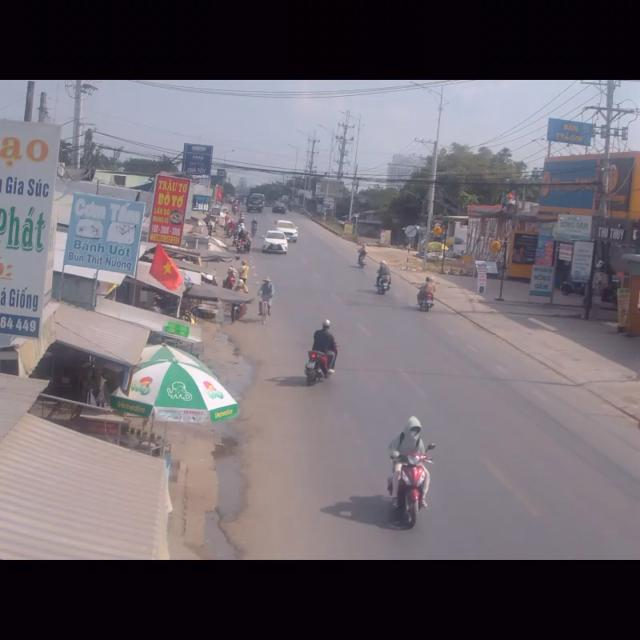motorbike: (384, 414, 435, 536), (305, 319, 341, 390), (256, 276, 273, 324), (376, 258, 394, 297), (417, 275, 435, 314)
